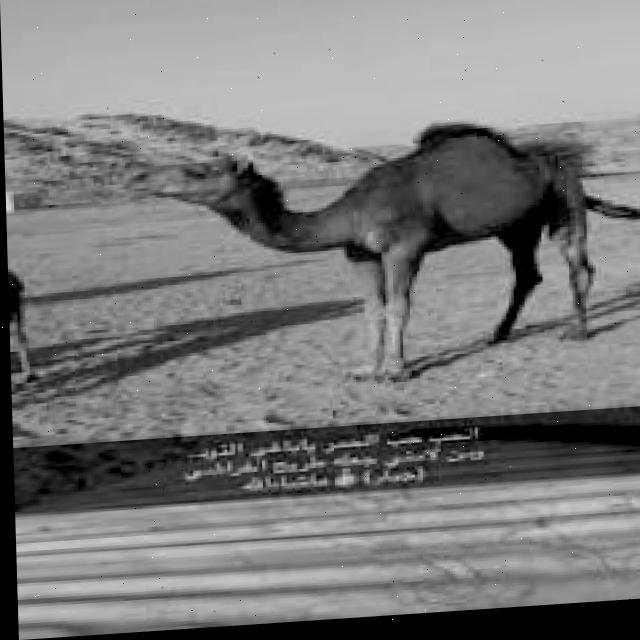Camel: (122, 107, 640, 400)
